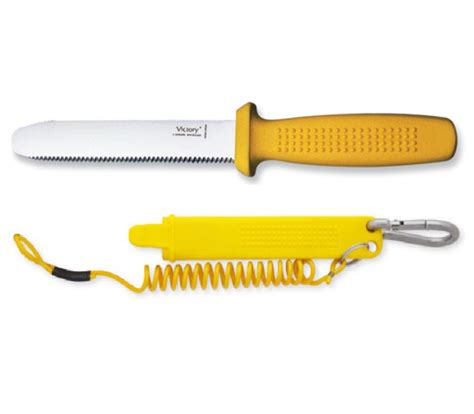knife: (11, 101, 462, 179)
